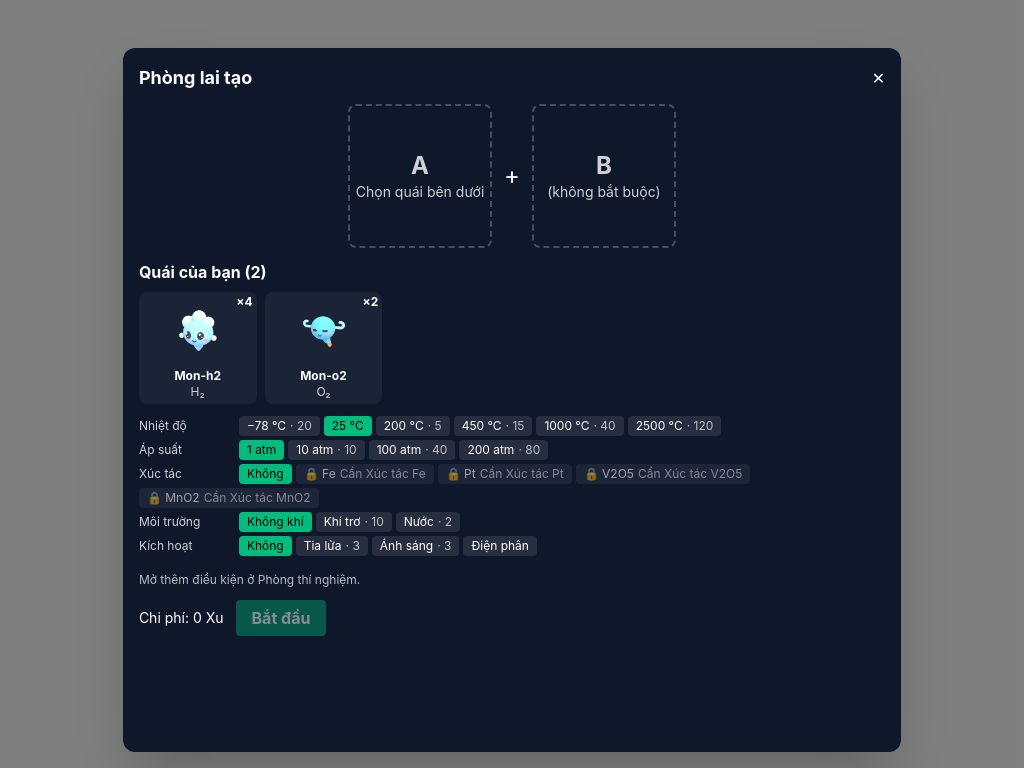
Test: tapping cards fills A then B; tapping a picked card takes it out and B moves up to A
What coordinates should you click on to do the following:
click the button "×4 Mon-h2 H₂"
I would click on:
 (198, 348)
Its box is [139,292,257,404].
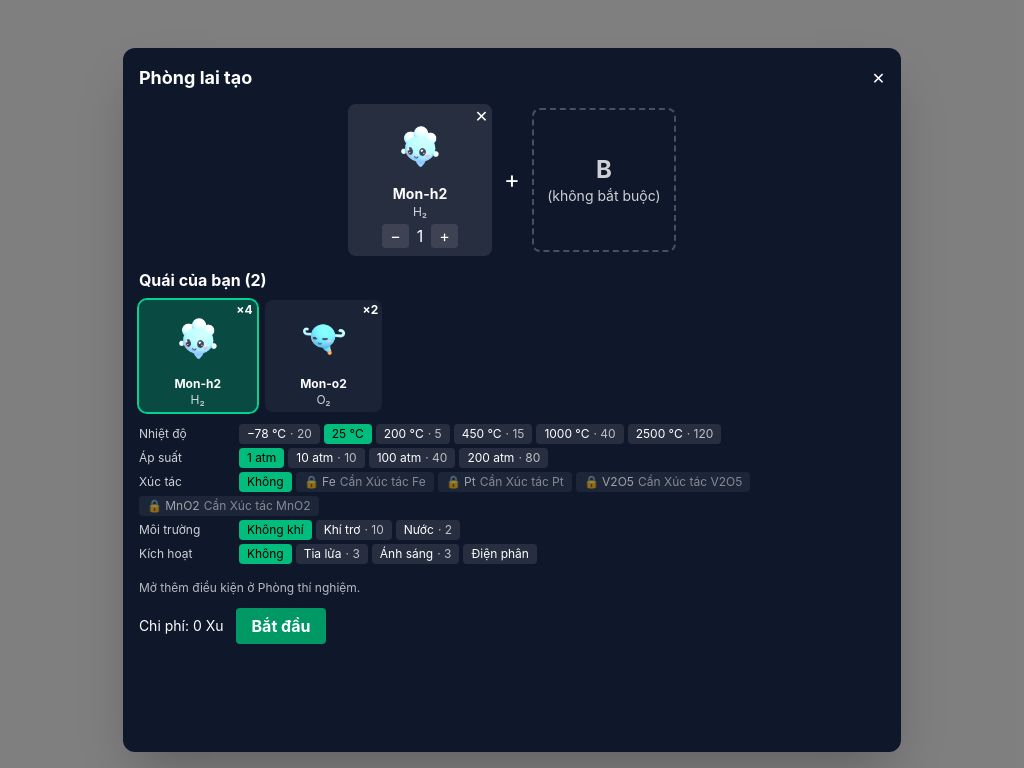
Expected: the element with test id "slot-A" shows "Mon-h2", [393,185,447,202]
What coordinates should you click on to do the following:
click the button "×2 Mon-o2 O₂"
I would click on:
 (323, 356)
Its box is [265,300,382,412].
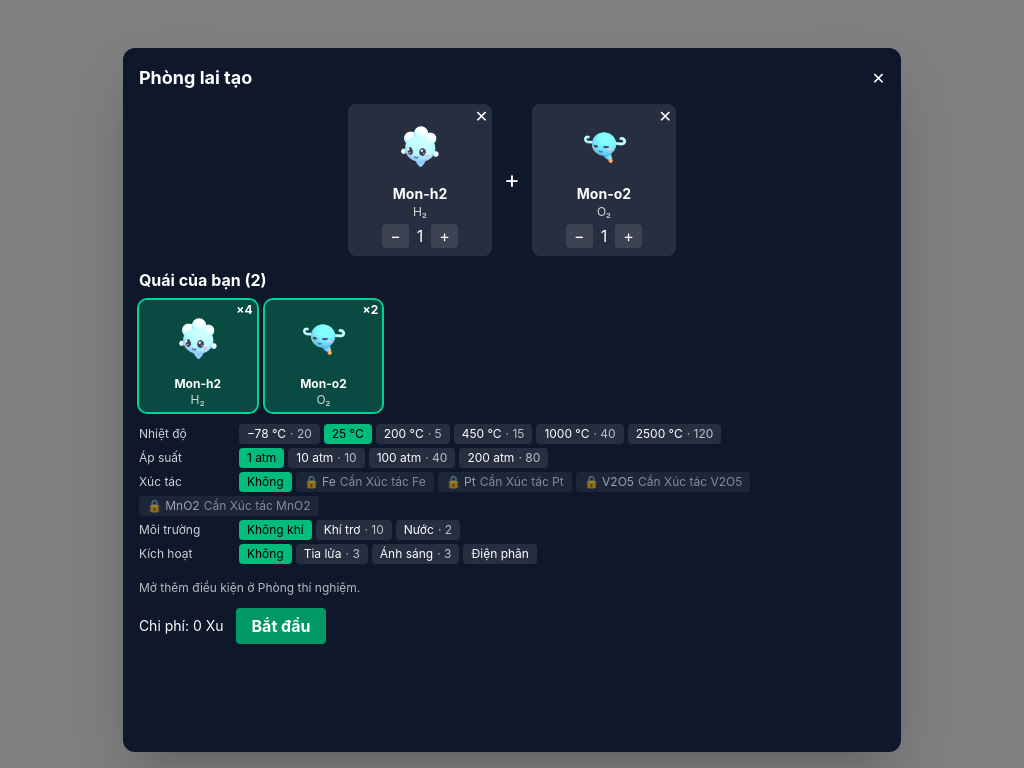
Expected: the element with test id "slot-B" shows "Mon-o2", [577,185,631,202]
What coordinates should you click on to do the following:
click the button "×4 Mon-h2 H₂"
I would click on:
 (198, 356)
Its box is [139,300,257,412].
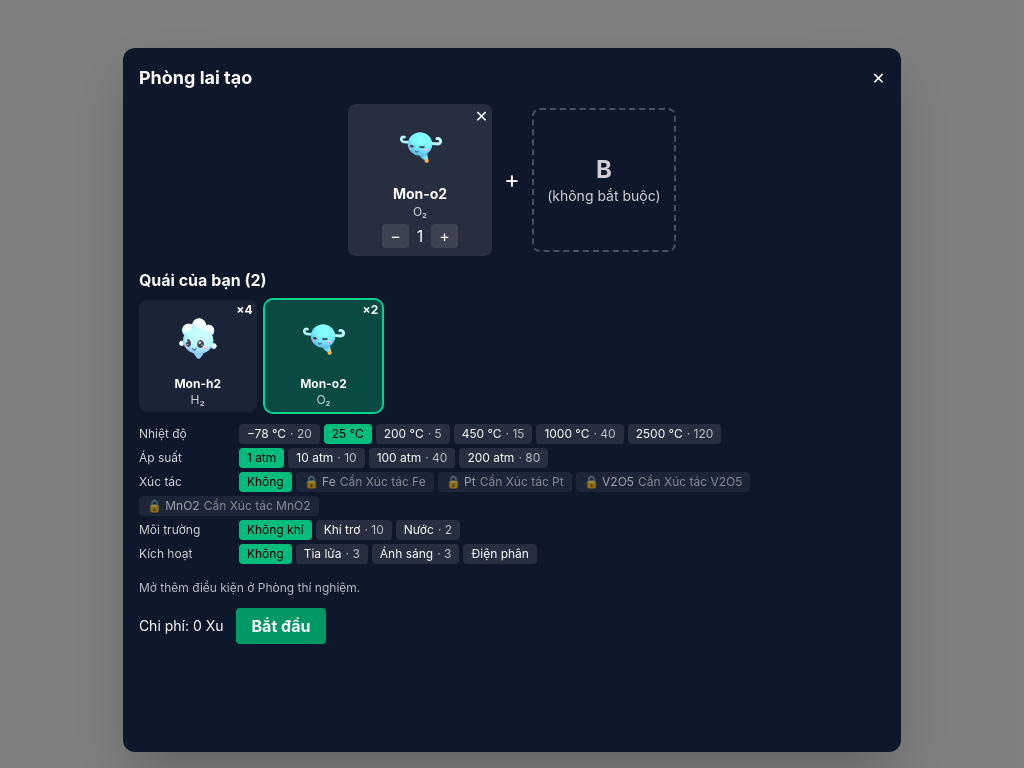
Expected: the element with test id "slot-A" shows "Mon-o2", [393,185,447,202]
